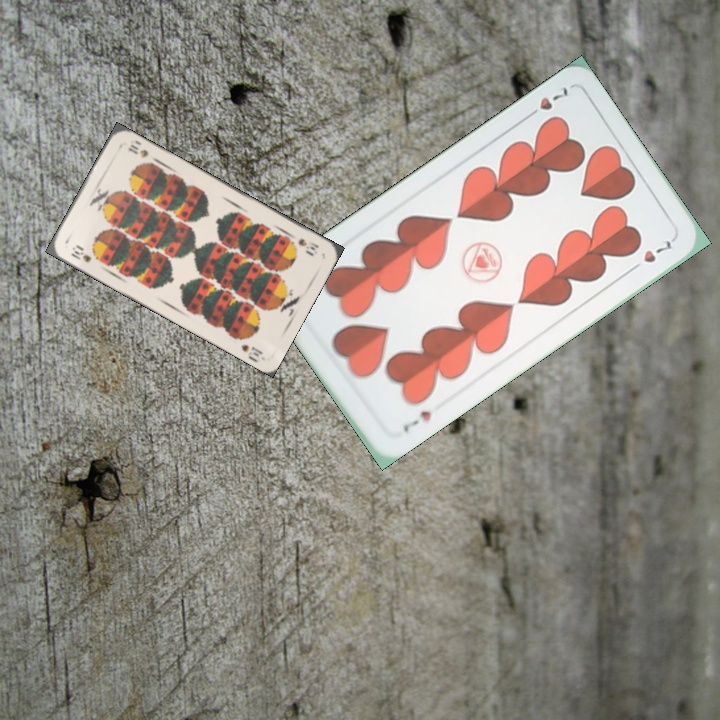H7: (521, 82, 571, 122), (398, 406, 434, 435)
S10: (67, 241, 94, 265), (294, 234, 321, 257)
